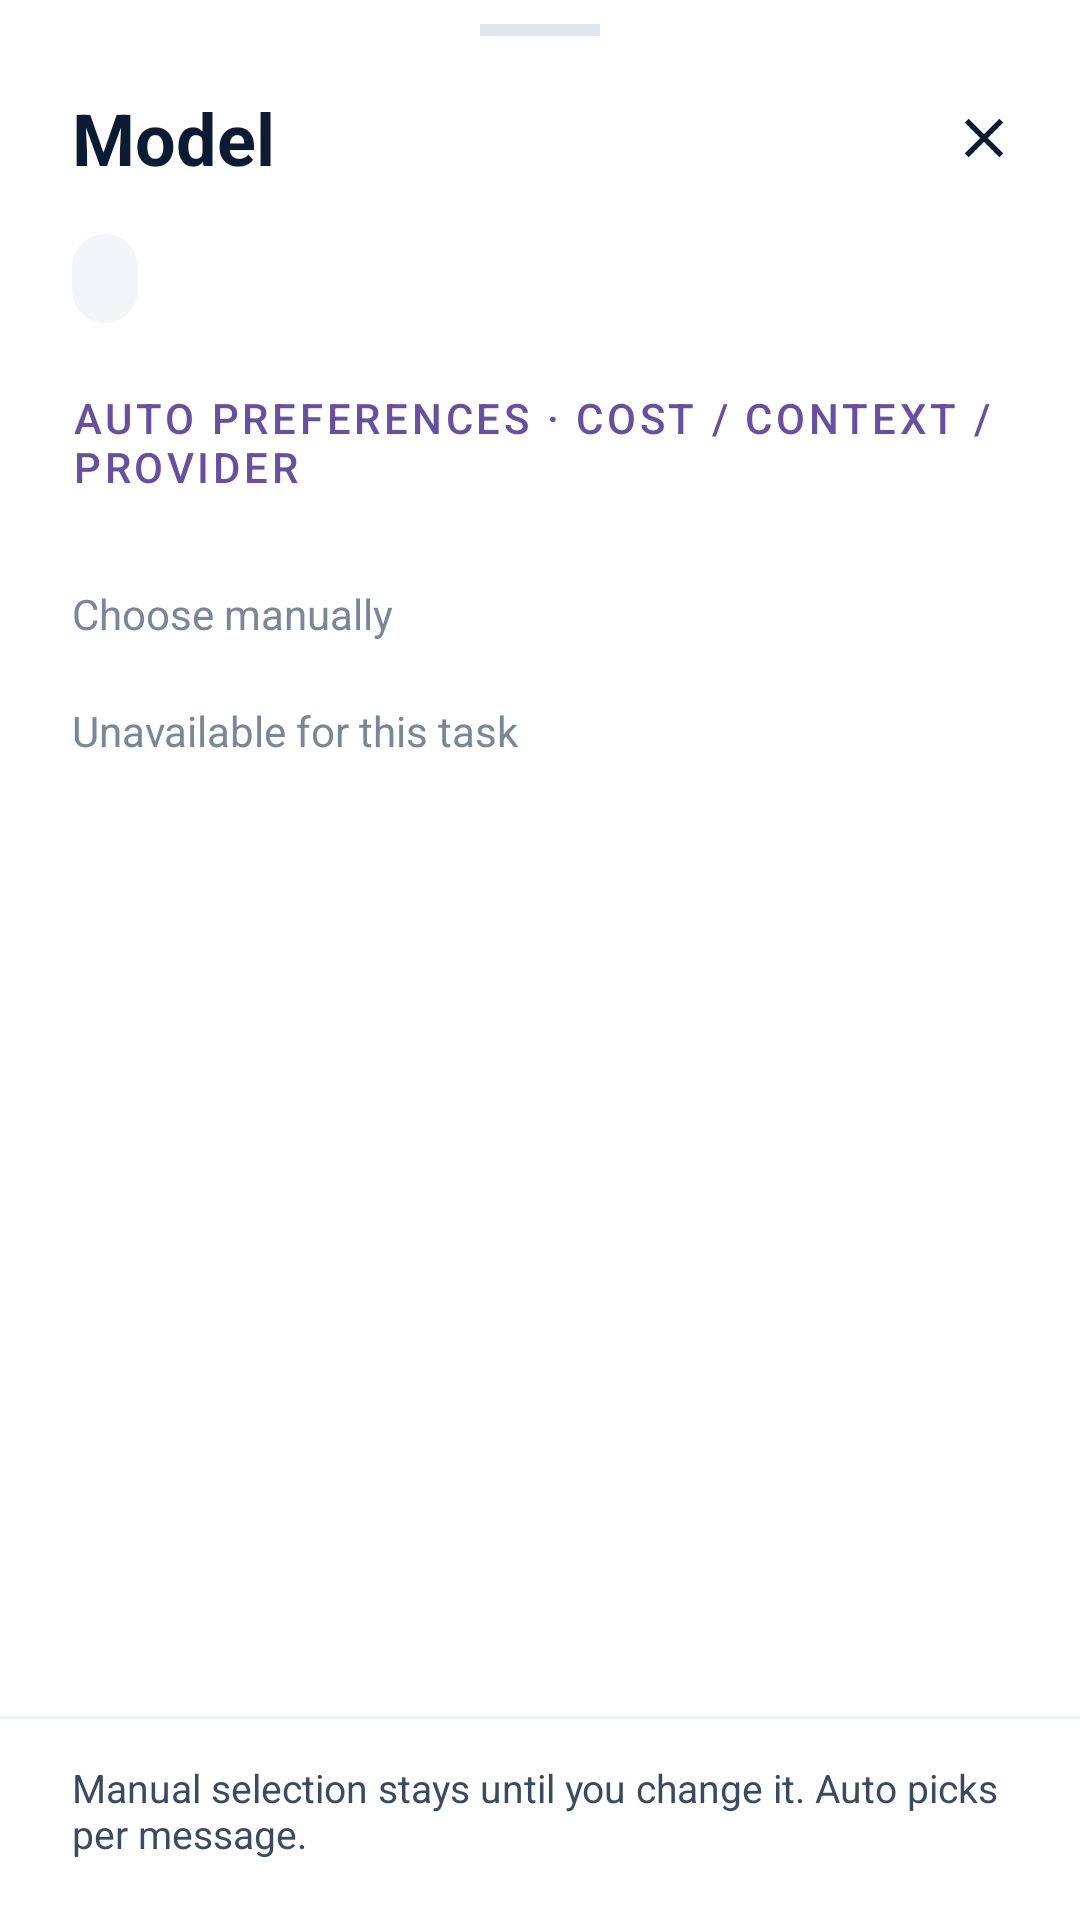

Icons on this 1080 x 1920 Android screen, each with its box as (x1, y1, x2, y2):
Close: (965, 119, 1003, 157)
